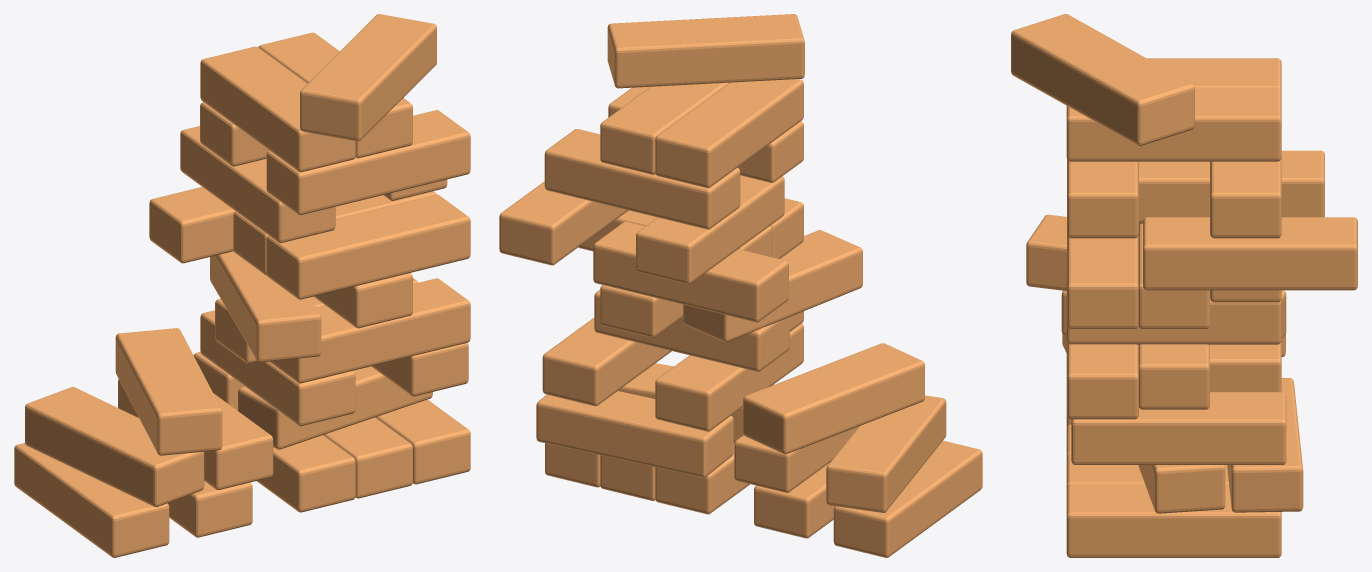
Rendered from jenga.fbx.
3 renders of one model, left to right at view 1: azimuth 30°, elevation 25°; view 2: azimuth 150°, elevation 25°; view 3: azimuth 270°, elevation 25°, orthographic. The views are drawn at different scales.
Visible parts, largest first — view 1: Cube.099; view 2: Cube.099; view 3: Cube.099.
Boxes of the visible parts, x1=… form: Cube.099: x1=14, y1=14, x2=470, y2=557; Cube.099: x1=499, y1=14, x2=982, y2=557; Cube.099: x1=1011, y1=14, x2=1357, y2=557.
Bounding box in the file's own units: 168 × 127 × 184.
